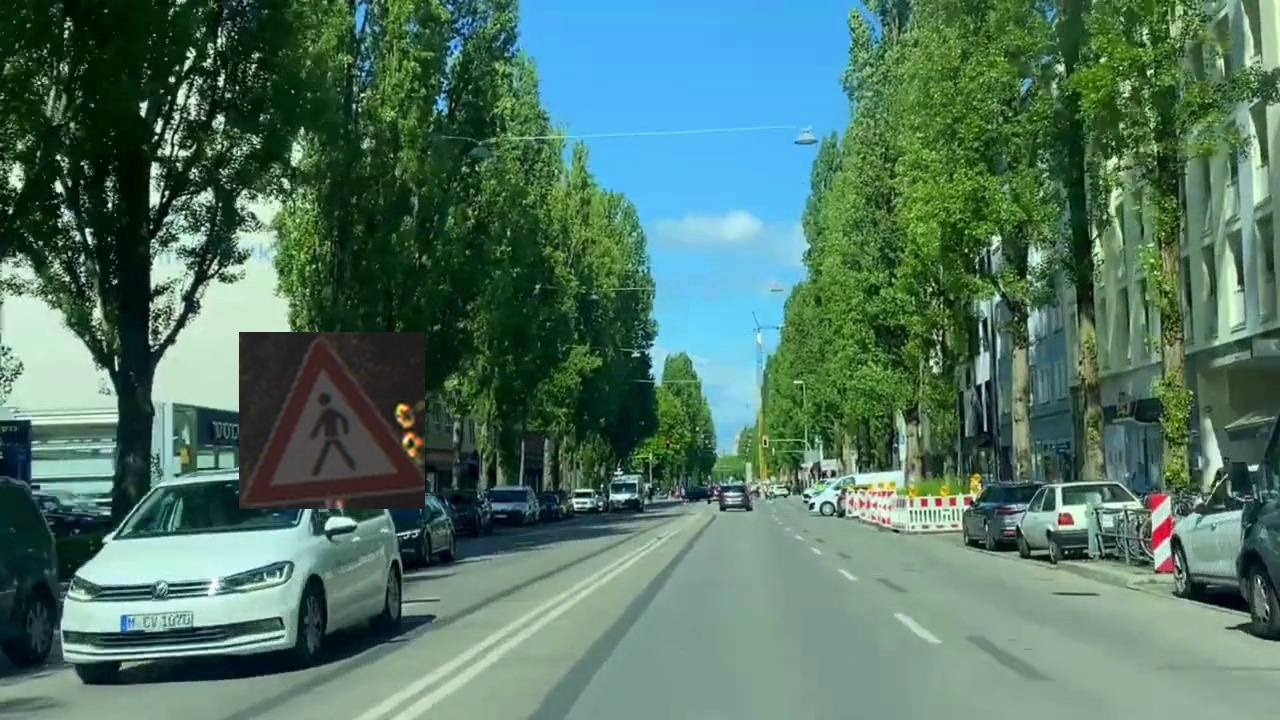Pedestrians: (239, 332, 425, 509)
